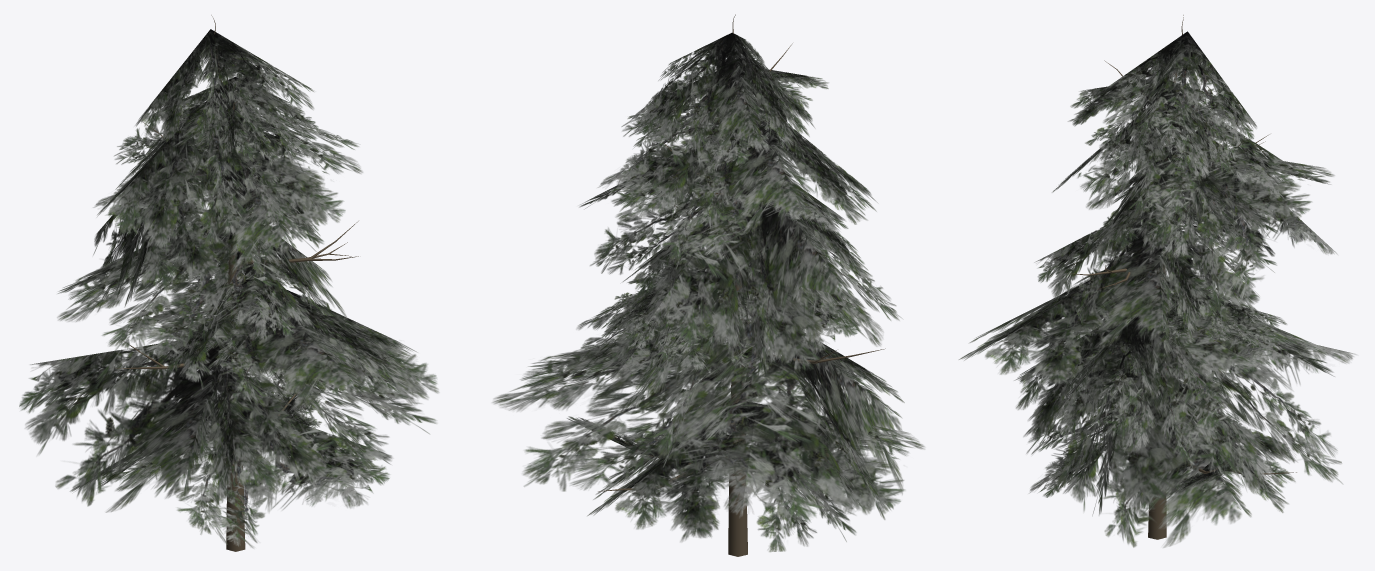
The model's file is snow_pine_1.glb.
3 views of the same model, side by side, from view 1: azimuth 30°, elevation 25°; view 2: azimuth 150°, elevation 25°; view 3: azimuth 270°, elevation 25° (orthographic). The views are drawn at different scales.
Visible parts, largest first — view 1: snow_pine_1; view 2: snow_pine_1; view 3: snow_pine_1.
Boxes of the visible parts, <box> form: snow_pine_1: <box>19,15,438,551</box>; snow_pine_1: <box>492,14,924,556</box>; snow_pine_1: <box>959,15,1357,547</box>.
Size of the model in its own units: 5.35 by 7.2 by 5.12.
Materials: 2 (1 with a texture image).
